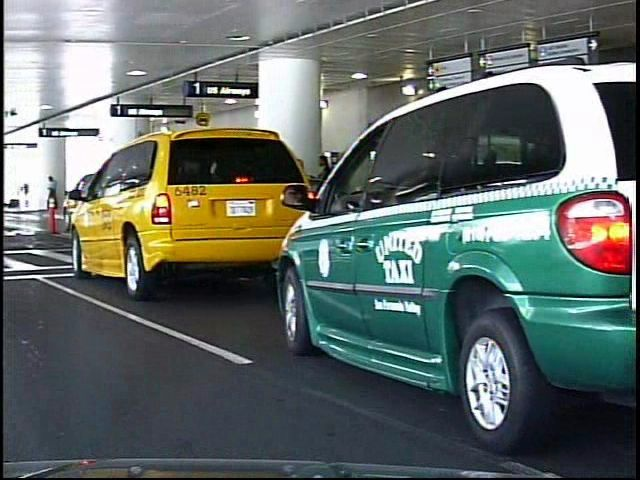person: (42, 175, 55, 198)
